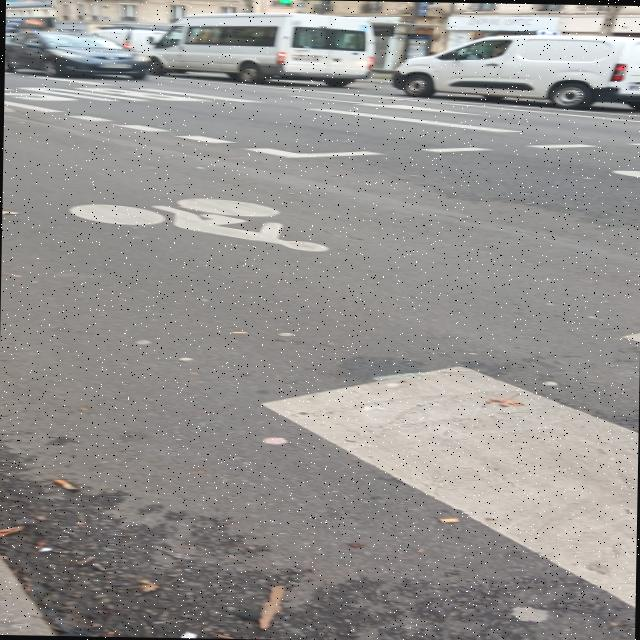Autre: (286, 50, 336, 64), (90, 60, 132, 70)
